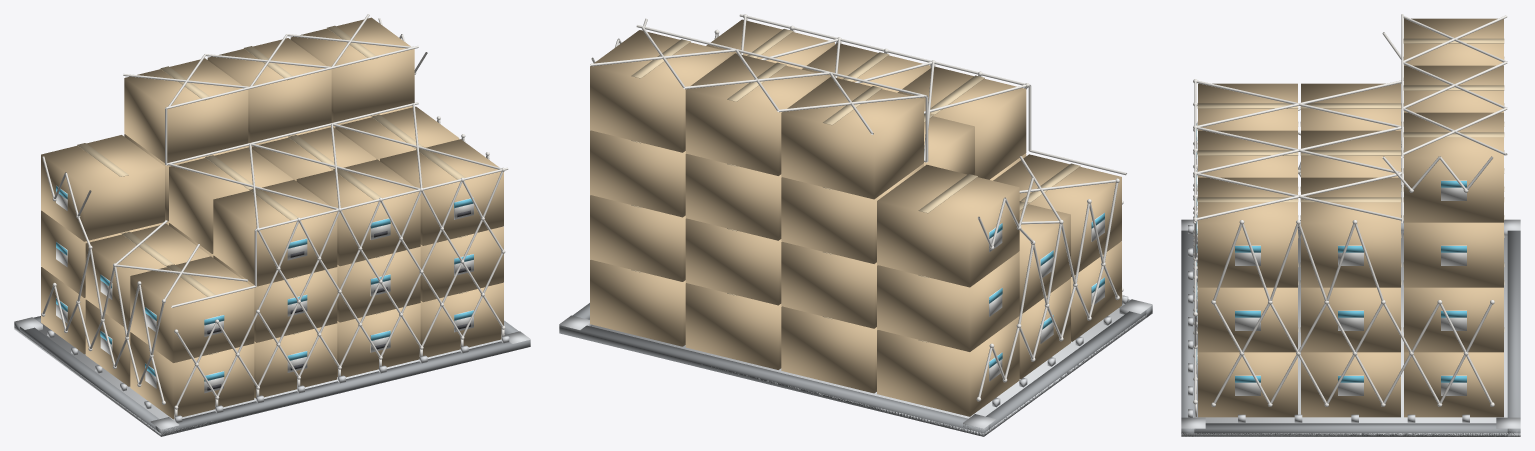
Rendered from cargonet.fbx.
3 views of the same model, side by side, from view 1: azimuth 30°, elevation 25°; view 2: azimuth 150°, elevation 25°; view 3: azimuth 270°, elevation 25° (orthographic). The views are drawn at different scales.
Parts seen in each view (by area): view 1: Cargo_Boxes_SteppedStack, Cargo_Restraint_Net_Knotted, Cargo_Pallet_PMC_Base; view 2: Cargo_Boxes_SteppedStack, Cargo_Pallet_PMC_Base, Cargo_Restraint_Net_Knotted; view 3: Cargo_Boxes_SteppedStack, Cargo_Restraint_Net_Knotted, Cargo_Pallet_PMC_Base.
Boxes of the visible parts, x1,y1,x2,y2 form: Cargo_Boxes_SteppedStack: (41, 17, 503, 419); Cargo_Restraint_Net_Knotted: (41, 14, 509, 422); Cargo_Pallet_PMC_Base: (14, 316, 530, 436); Cargo_Boxes_SteppedStack: (590, 19, 1121, 416); Cargo_Pallet_PMC_Base: (559, 299, 1152, 436); Cargo_Restraint_Net_Knotted: (590, 14, 1128, 407); Cargo_Boxes_SteppedStack: (1196, 18, 1504, 417); Cargo_Restraint_Net_Knotted: (1188, 14, 1507, 422); Cargo_Pallet_PMC_Base: (1181, 219, 1520, 436).
Size of the model in its own units: 244 by 148 by 168.
